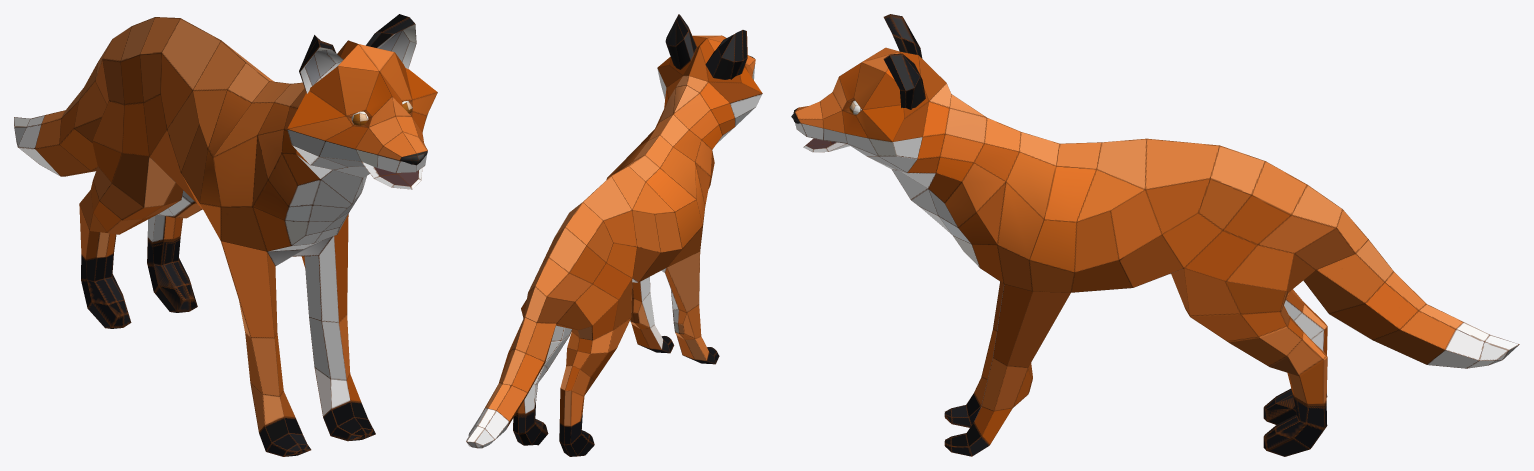
Rendered from 04_fennec.glb.
3 renders of one model, left to right at view 1: azimuth 30°, elevation 25°; view 2: azimuth 150°, elevation 25°; view 3: azimuth 270°, elevation 25°, orthographic. The views are drawn at different scales.
Visible parts, largest first — view 1: FoxModel1; view 2: FoxModel1; view 3: FoxModel1.
Boxes of the visible parts, <box> form: FoxModel1: <box>14,14,437,456</box>; FoxModel1: <box>466,14,762,456</box>; FoxModel1: <box>791,14,1519,456</box>.
Bounding box in the file's own units: 47.29 × 136 × 220.
1 material, 1 textured.
